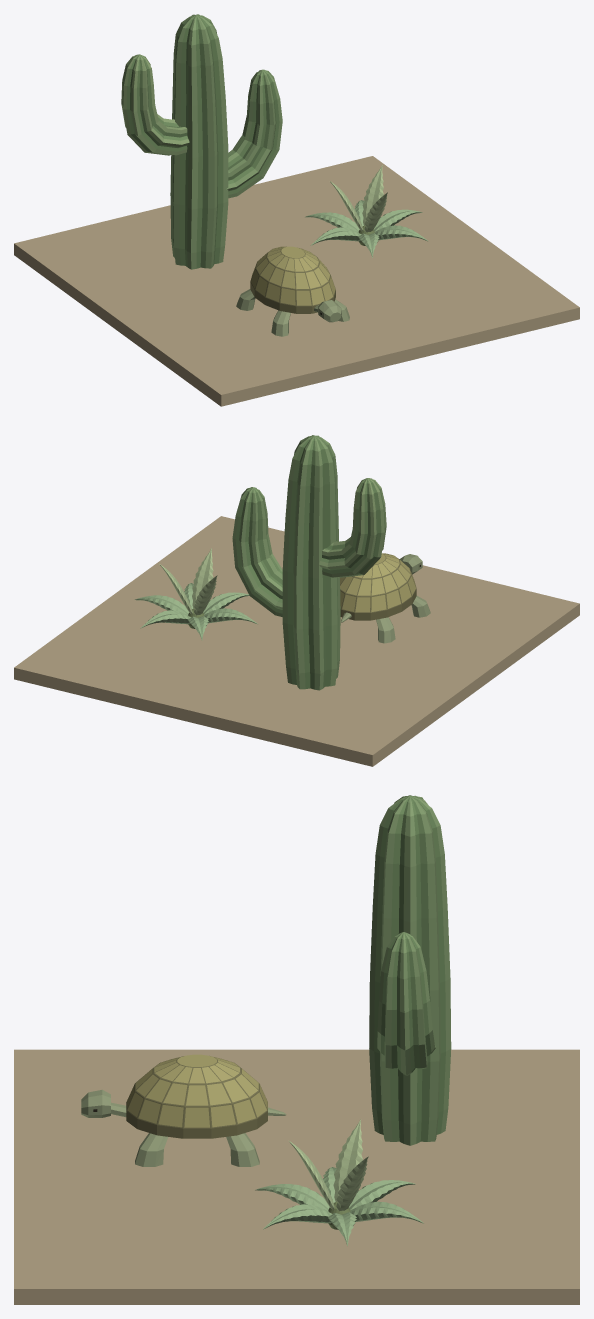
3 views of the same model, one above another, from view 1: azimuth 30°, elevation 25°; view 2: azimuth 150°, elevation 25°; view 3: azimuth 270°, elevation 25° (orthographic). The views are drawn at different scales.
Parts seen in each view (by area): view 1: SceneOnly_ContinuousFloor, c__WholeTaperedRibbedCentralColumn, t__DomedShell_IntegralBelly, c__WholeLowerContinuouslyCurvedRibbedArm, c__WholeHigherContinuouslyCurvedRibbedArm, r__WholeThickChannelledSerrateSwordLeaf7; view 2: SceneOnly_ContinuousFloor, c__WholeTaperedRibbedCentralColumn, c__WholeLowerContinuouslyCurvedRibbedArm, c__WholeHigherContinuouslyCurvedRibbedArm, t__DomedShell_IntegralBelly, r__WholeThickChannelledSerrateSwordLeaf9, r__WholeThickChannelledSerrateSwordLeaf4, r__WholeThickChannelledSerrateSwordLeaf1, r__WholeThickChannelledSerrateSwordLeaf2, r__WholeThickChannelledSerrateSwordLeaf5, r__WholeThickChannelledSerrateSwordLeaf8; view 3: SceneOnly_ContinuousFloor, c__WholeTaperedRibbedCentralColumn, t__DomedShell_IntegralBelly, c__WholeLowerContinuouslyCurvedRibbedArm, r__WholeThickChannelledSerrateSwordLeaf8, r__WholeThickChannelledSerrateSwordLeaf2, r__WholeThickChannelledSerrateSwordLeaf5, r__WholeThickChannelledSerrateSwordLeaf6, r__WholeThickChannelledSerrateSwordLeaf3, t__ForeRightShortGroundLeg, t__HindRightShortGroundLeg, r__WholeThickChannelledSerrateSwordLeaf7 (+1 smaller).
Boxes of the visible parts, x1=… form: SceneOnly_ContinuousFloor: x1=14, y1=156, x2=579, y2=406; c__WholeTaperedRibbedCentralColumn: x1=170, y1=14, x2=228, y2=269; t__DomedShell_IntegralBelly: x1=250, y1=246, x2=335, y2=313; c__WholeLowerContinuouslyCurvedRibbedArm: x1=226, y1=69, x2=282, y2=198; c__WholeHigherContinuouslyCurvedRibbedArm: x1=121, y1=54, x2=189, y2=155; r__WholeThickChannelledSerrateSwordLeaf7: x1=362, y1=165, x2=383, y2=225; SceneOnly_ContinuousFloor: x1=14, y1=516, x2=579, y2=766; c__WholeTaperedRibbedCentralColumn: x1=282, y1=435, x2=340, y2=690; c__WholeLowerContinuouslyCurvedRibbedArm: x1=232, y1=487, x2=282, y2=616; c__WholeHigherContinuouslyCurvedRibbedArm: x1=319, y1=478, x2=386, y2=577; t__DomedShell_IntegralBelly: x1=340, y1=553, x2=416, y2=620; r__WholeThickChannelledSerrateSwordLeaf9: x1=192, y1=548, x2=213, y2=608; r__WholeThickChannelledSerrateSwordLeaf4: x1=204, y1=608, x2=257, y2=624; r__WholeThickChannelledSerrateSwordLeaf1: x1=134, y1=595, x2=188, y2=614; r__WholeThickChannelledSerrateSwordLeaf2: x1=140, y1=610, x2=190, y2=628; r__WholeThickChannelledSerrateSwordLeaf5: x1=203, y1=592, x2=249, y2=614; r__WholeThickChannelledSerrateSwordLeaf8: x1=194, y1=575, x2=217, y2=615; SceneOnly_ContinuousFloor: x1=14, y1=1049, x2=579, y2=1304; c__WholeTaperedRibbedCentralColumn: x1=369, y1=795, x2=451, y2=1145; t__DomedShell_IntegralBelly: x1=126, y1=1054, x2=267, y2=1138; c__WholeLowerContinuouslyCurvedRibbedArm: x1=377, y1=932, x2=435, y2=1075; r__WholeThickChannelledSerrateSwordLeaf8: x1=333, y1=1119, x2=362, y2=1201; r__WholeThickChannelledSerrateSwordLeaf2: x1=350, y1=1201, x2=423, y2=1223; r__WholeThickChannelledSerrateSwordLeaf5: x1=255, y1=1184, x2=329, y2=1210; r__WholeThickChannelledSerrateSwordLeaf6: x1=263, y1=1204, x2=332, y2=1229; r__WholeThickChannelledSerrateSwordLeaf3: x1=349, y1=1180, x2=415, y2=1210; t__ForeRightShortGroundLeg: x1=135, y1=1133, x2=168, y2=1166; t__HindRightShortGroundLeg: x1=226, y1=1133, x2=259, y2=1166; r__WholeThickChannelledSerrateSwordLeaf7: x1=336, y1=1156, x2=368, y2=1211.
Bounding box in the file's own units: 4 × 2.72 × 4.
